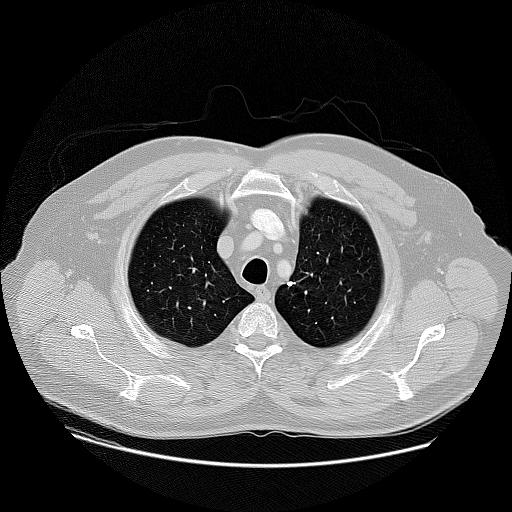nodule: (284, 278, 296, 290)
